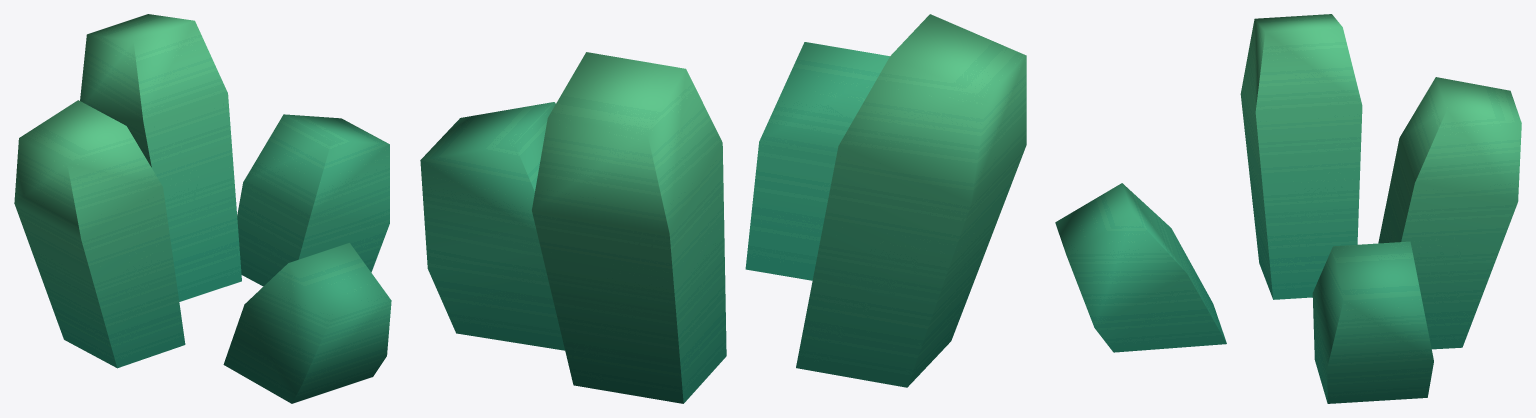
File: grass.004_lev2.glb
3 renders of one model, left to right at view 1: azimuth 30°, elevation 25°; view 2: azimuth 150°, elevation 25°; view 3: azimuth 270°, elevation 25°, orthographic. The views are drawn at different scales.
Parts seen in each view (by area): view 1: grass.004_lev2; view 2: grass.004_lev2; view 3: grass.004_lev2.
Part boxes in pixels (bbox=[...]): grass.004_lev2: bbox=[14, 14, 391, 403]; grass.004_lev2: bbox=[420, 14, 1026, 403]; grass.004_lev2: bbox=[1055, 14, 1521, 403].
Bounding box in the file's own units: 0.5221 × 0.3139 × 0.5596.
Materials: 1 (1 with a texture image).
